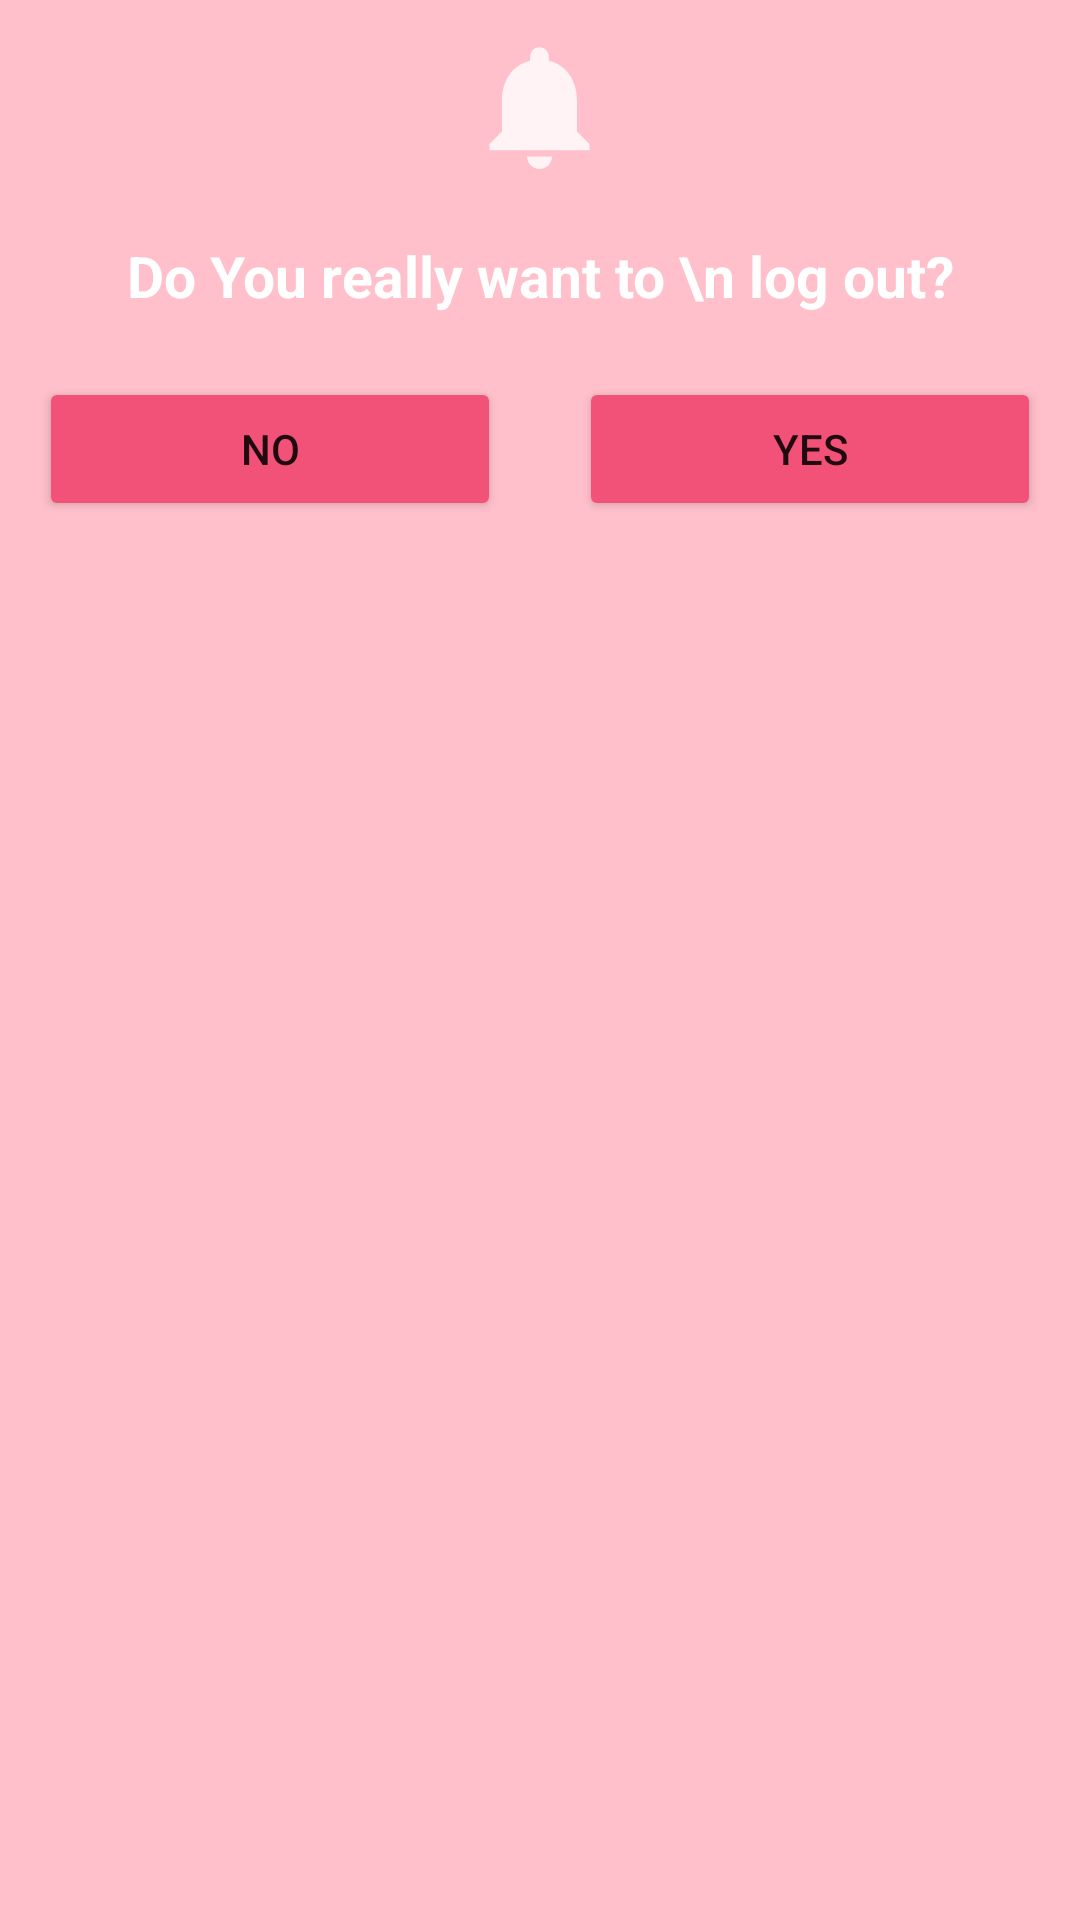

Where icons sit on this 1080w x 1920h app screen, as (x1, y1, x2, y2):
notification: (489, 47, 590, 169)
